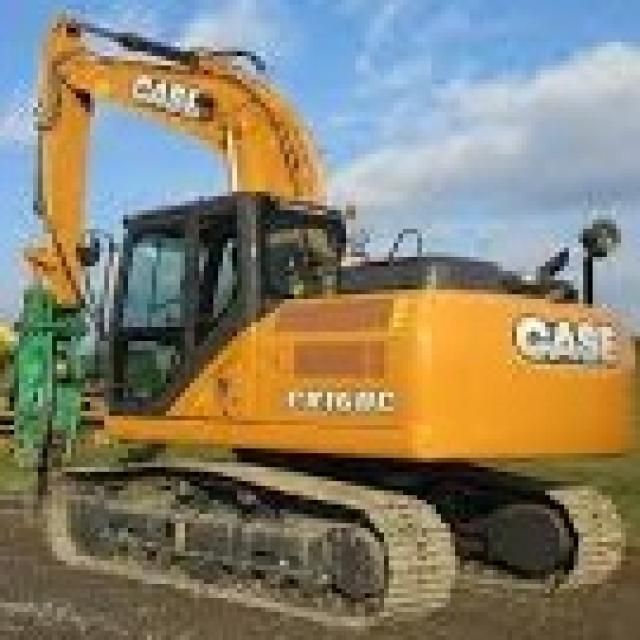excavator: (45, 179, 640, 639)
